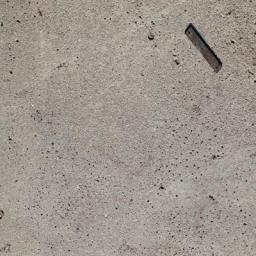FOD: (181, 21, 229, 77)
